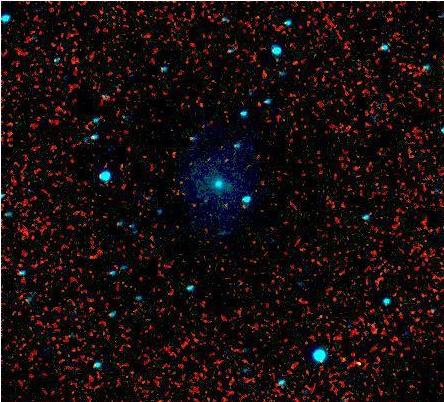star: (306, 301, 336, 331)
